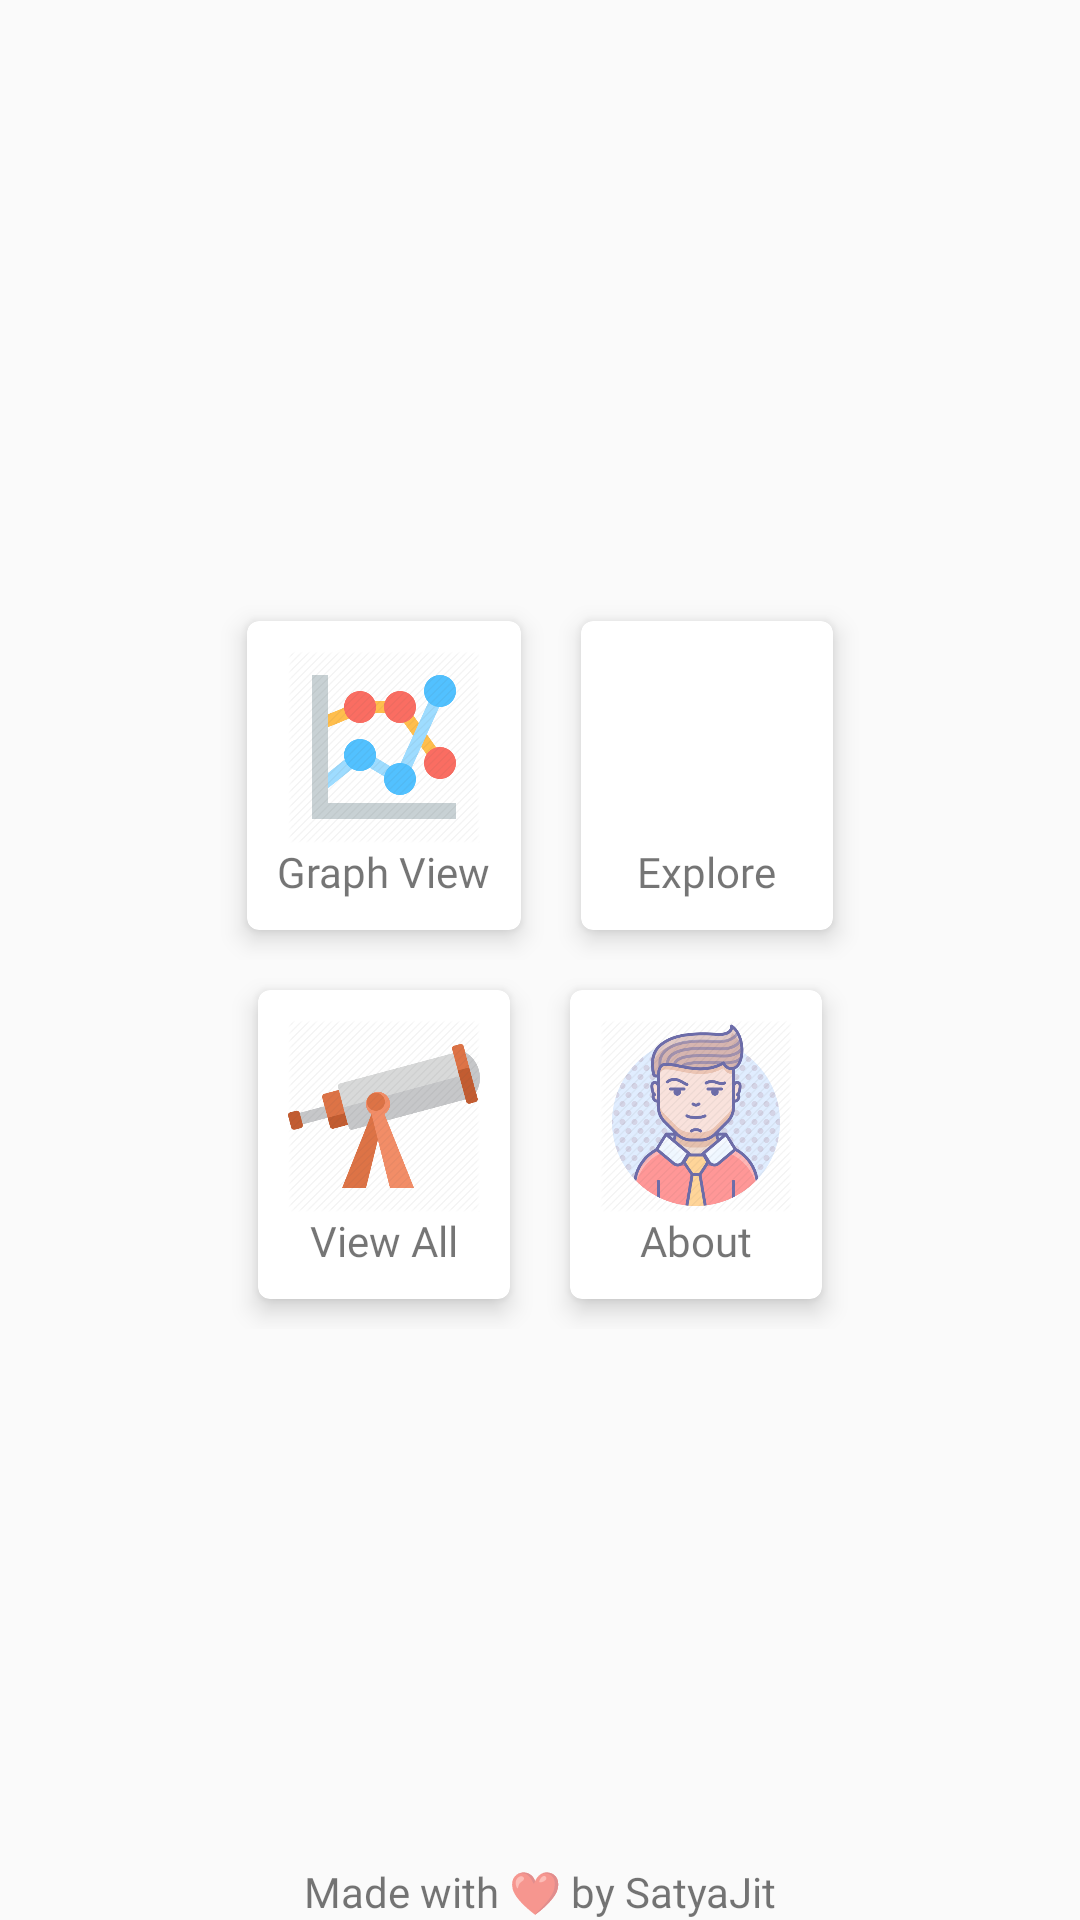

Icon bounding boxes for this 1080 × 1920 phone screenshot, format [left=x1, top=y1, right=x2, bottom=y2]:
person: [left=612, top=1024, right=780, bottom=1206]
